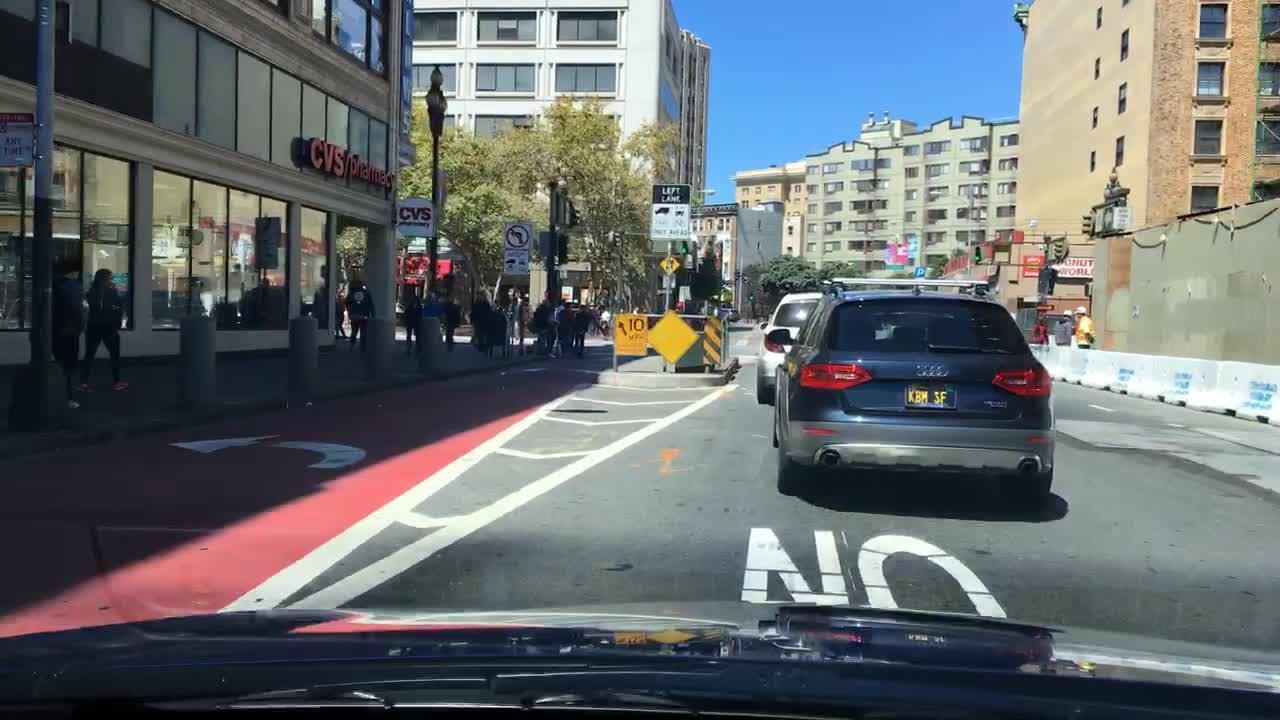Audi: (910, 362, 951, 382)
